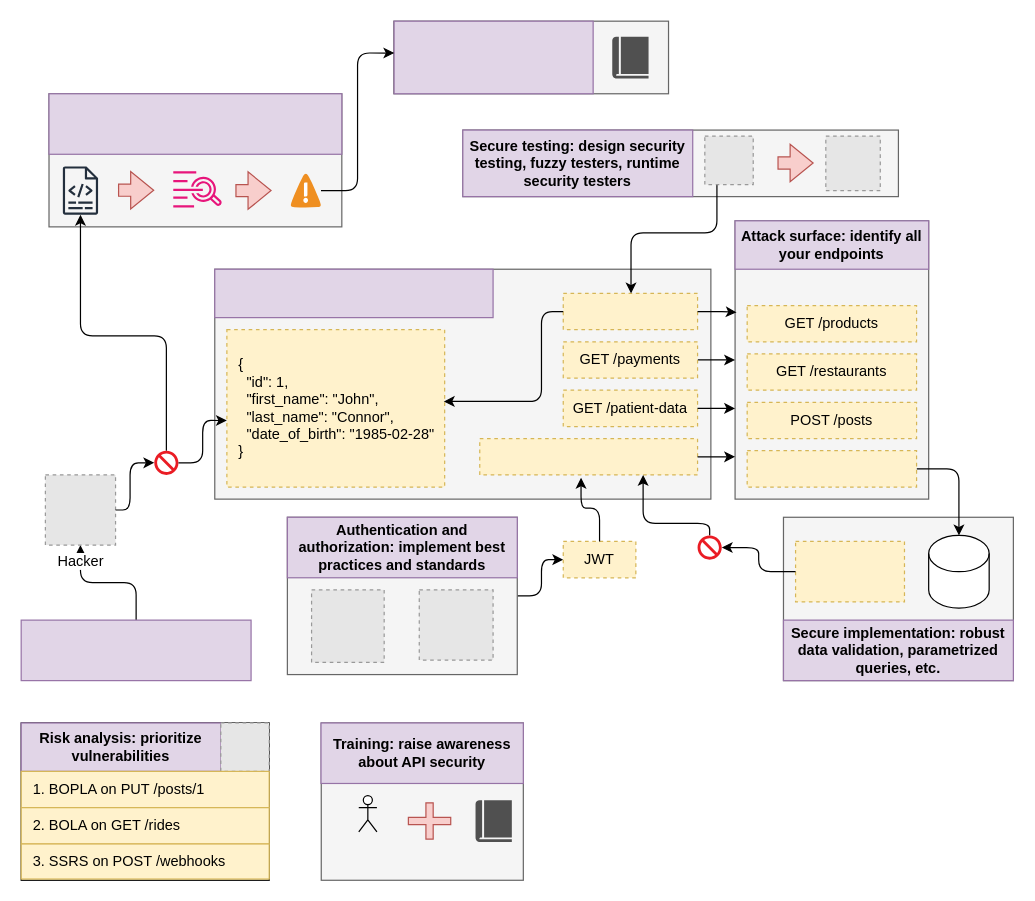
Image size: 1035x901. Some labels were removed from this diagram. Grey dashed boxes stand in for pictures. The shapes that lost their labels are listed below. From the top down, each one's centre as x and y in pixels, then its label:
the point at 493,57: Incident response plan: know what to do when an incident happens
the point at 195,123: Incident detection: detect suspicious user behavior and security incidents
the point at 353,293: Data inventory: Identify sensitive data endpoints and payloads
the point at 630,311: GET /customers
the point at 588,456: GET /customer/1/card-details
the point at 831,468: DELETE /comments/1
the point at 849,571: Malicious payload
the point at 135,650: Robust access controls: users can't get their hands on the wrong data
the point at 367,813: Developer
